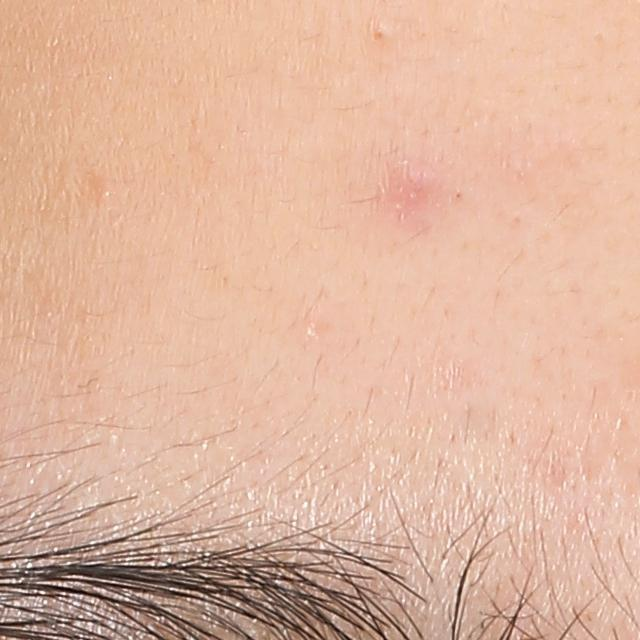comedo: (86, 179, 119, 207), (303, 315, 327, 342)
